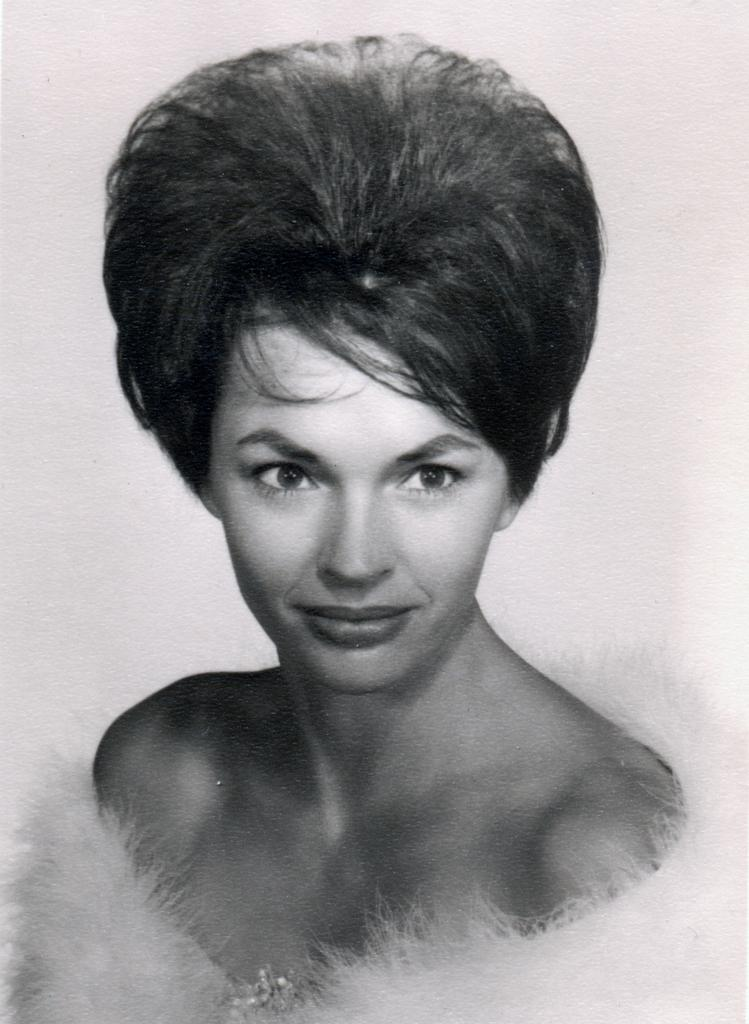Sem Máscara: (216, 321, 508, 684)
